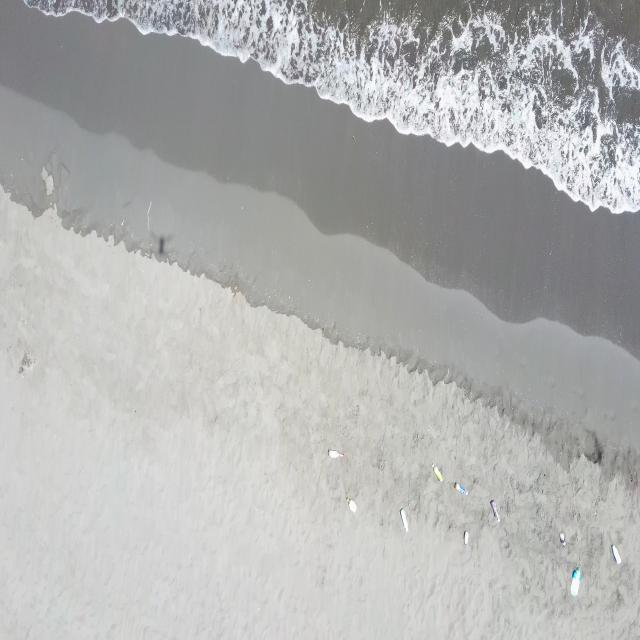Garbage: (569, 568, 580, 595), (489, 499, 499, 520), (453, 482, 467, 495), (611, 544, 620, 564), (432, 464, 443, 480), (400, 507, 407, 531), (328, 448, 343, 457), (347, 497, 355, 512), (463, 529, 467, 544), (560, 532, 564, 546)
